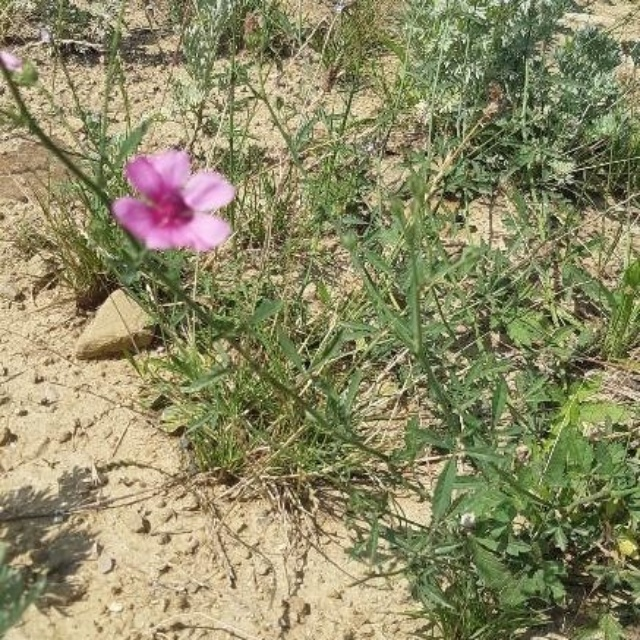obstacle: (41, 104, 365, 467), (378, 168, 615, 596)
